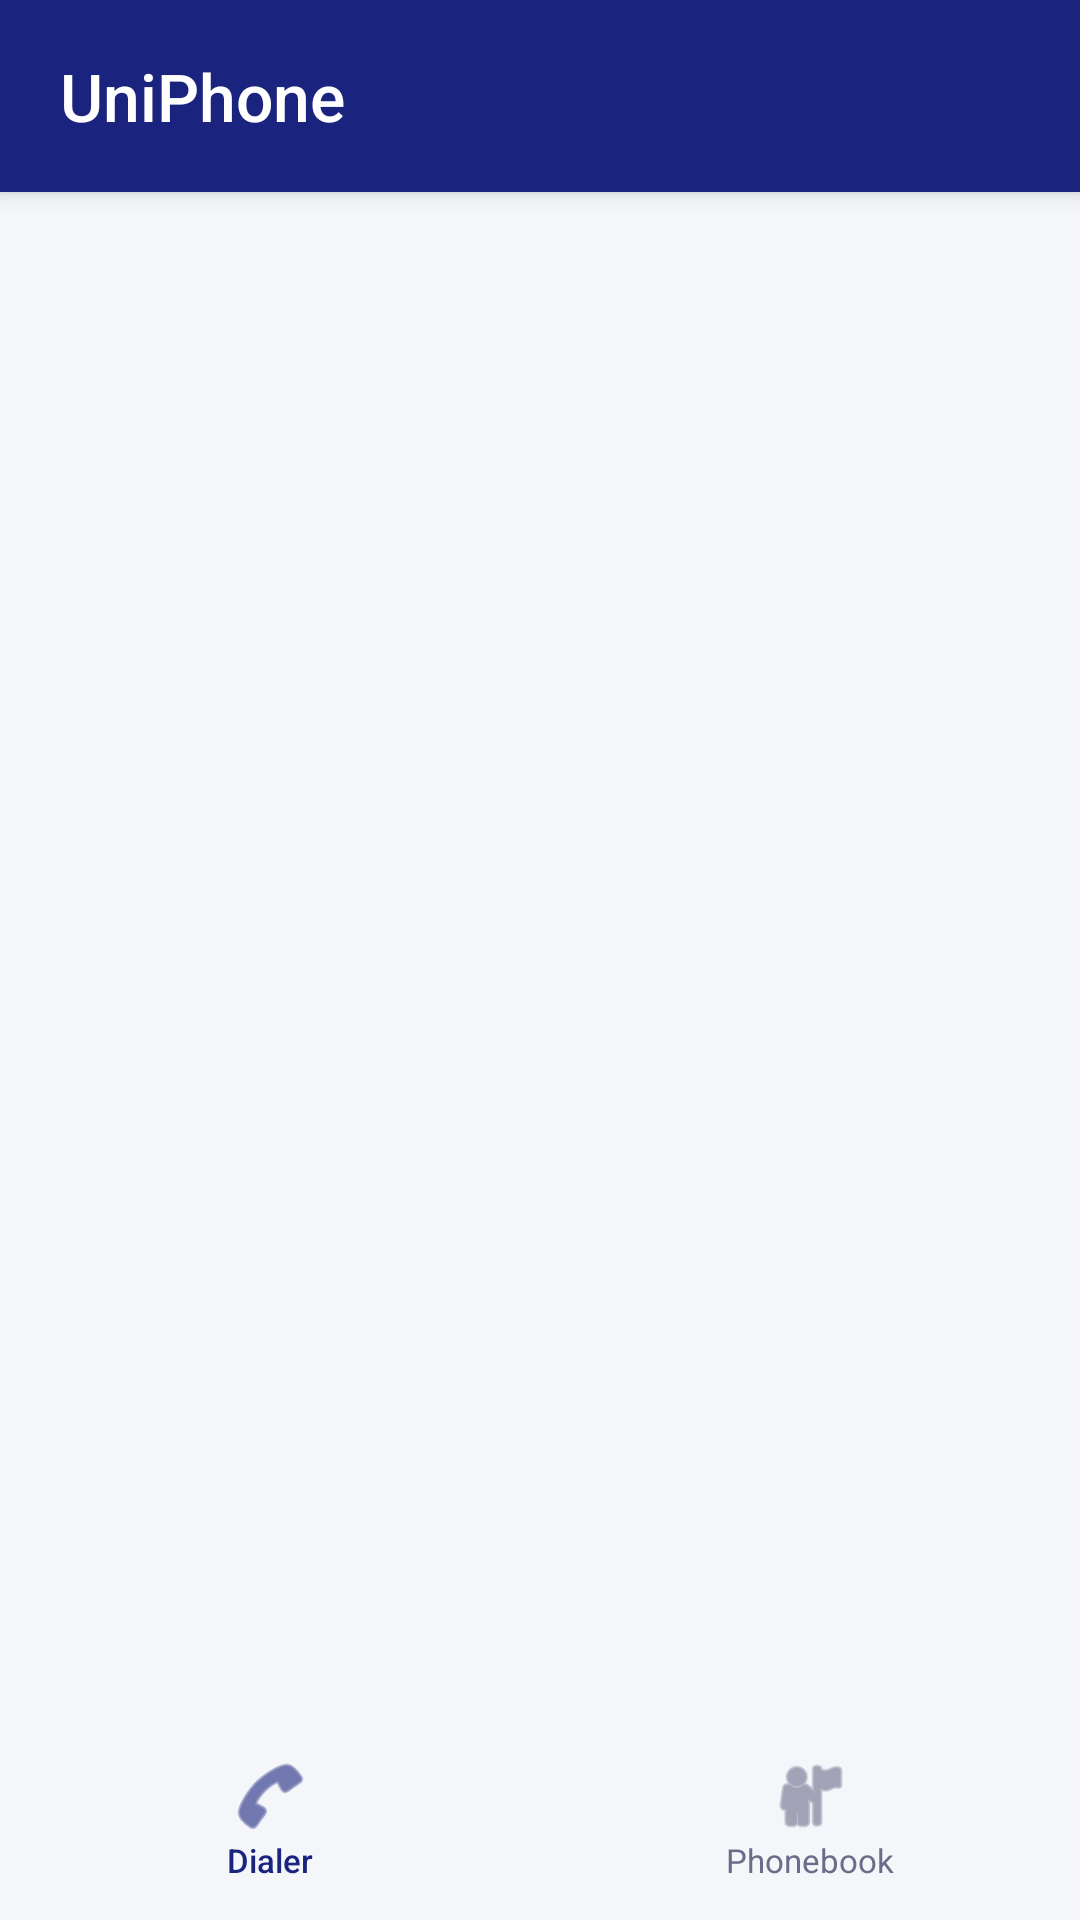

Screen size 1080*1920. Icon name, then its center in pixels as (x=x, y=y):
call: (x=270, y=1796)
myplaces: (x=810, y=1796)
